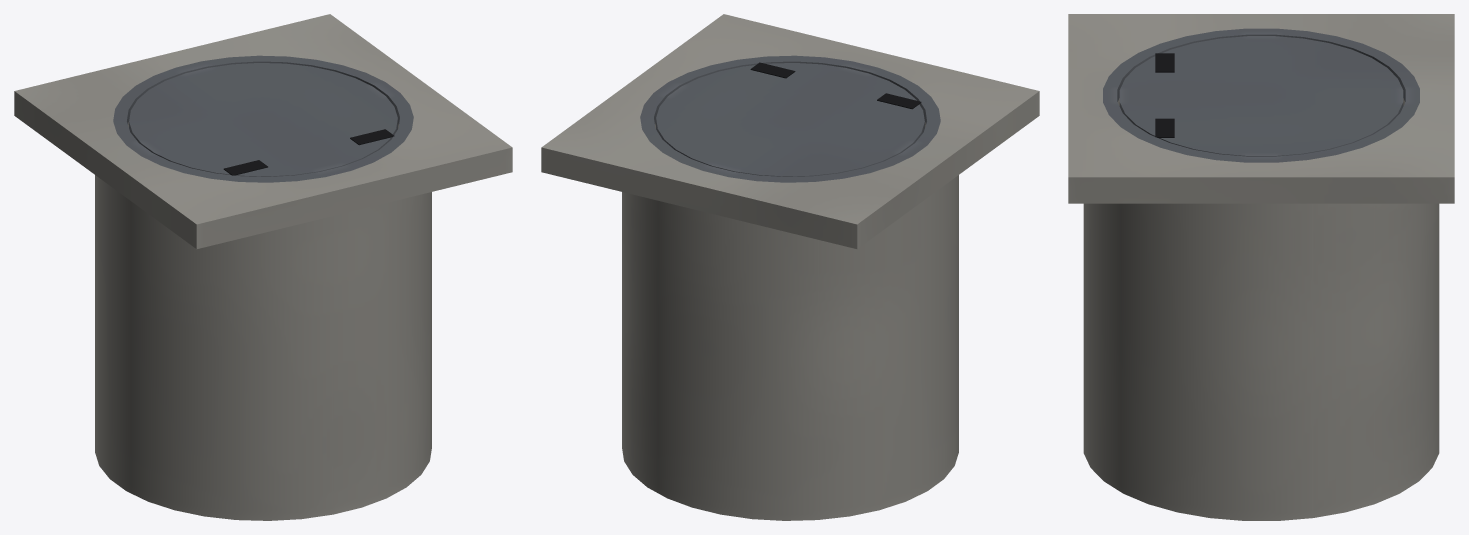
File: item.obj
3 views of the same model, side by side, from view 1: azimuth 30°, elevation 25°; view 2: azimuth 150°, elevation 25°; view 3: azimuth 270°, elevation 25° (orthographic). The views are drawn at different scales.
Parts seen in each view (by area): view 1: pump_manhole_cover__frame__shaft, pump_manhole_cover__frame__top, pump_manhole_cover__lid_closed__lid, pump_manhole_cover__frame__rim, pump_manhole_cover__lid_closed__pry_slots; view 2: pump_manhole_cover__frame__shaft, pump_manhole_cover__frame__top, pump_manhole_cover__lid_closed__lid, pump_manhole_cover__frame__rim, pump_manhole_cover__lid_closed__pry_slots; view 3: pump_manhole_cover__frame__shaft, pump_manhole_cover__frame__top, pump_manhole_cover__lid_closed__lid, pump_manhole_cover__frame__rim, pump_manhole_cover__lid_closed__pry_slots.
Boxes of the visible parts, x1,y1,x2,y2 form: pump_manhole_cover__frame__shaft: (95, 122, 431, 520); pump_manhole_cover__frame__top: (14, 14, 512, 248); pump_manhole_cover__lid_closed__lid: (129, 63, 397, 176); pump_manhole_cover__frame__rim: (113, 55, 413, 182); pump_manhole_cover__lid_closed__pry_slots: (223, 129, 394, 175); pump_manhole_cover__frame__shaft: (622, 122, 958, 520); pump_manhole_cover__frame__top: (541, 14, 1039, 248); pump_manhole_cover__lid_closed__lid: (656, 63, 924, 176); pump_manhole_cover__frame__rim: (640, 55, 940, 182); pump_manhole_cover__lid_closed__pry_slots: (750, 62, 921, 109); pump_manhole_cover__frame__shaft: (1083, 98, 1439, 520); pump_manhole_cover__frame__top: (1068, 14, 1454, 203); pump_manhole_cover__lid_closed__lid: (1119, 36, 1403, 156); pump_manhole_cover__frame__rim: (1103, 28, 1419, 162); pump_manhole_cover__lid_closed__pry_slots: (1155, 53, 1174, 137).
Bounding box in the file's own units: 1 × 1 × 1.
